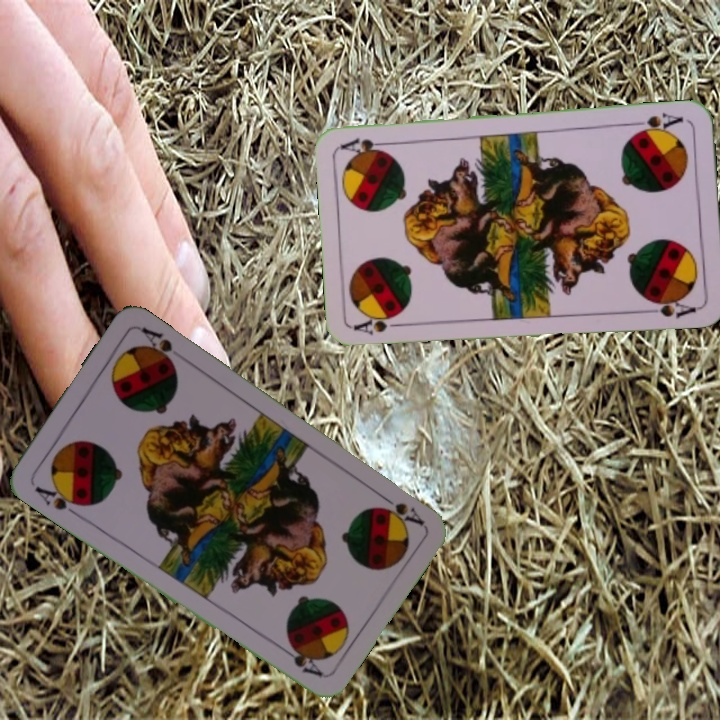SA: (30, 479, 87, 519), (374, 489, 427, 529), (628, 108, 686, 137), (350, 311, 410, 337)
